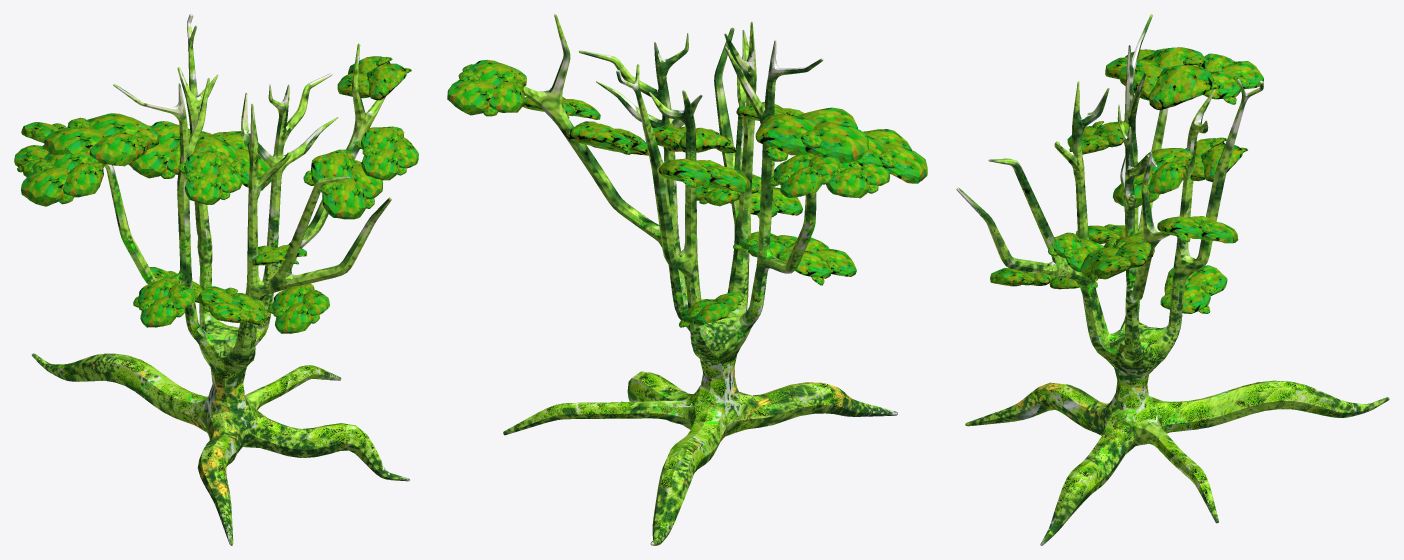
File: Arbol2.fbx
3 views of the same model, side by side, from view 1: azimuth 30°, elevation 25°; view 2: azimuth 150°, elevation 25°; view 3: azimuth 270°, elevation 25° (orthographic). The views are drawn at different scales.
Parts seen in each view (by area): view 1: Arbol; view 2: Arbol; view 3: Arbol.
Boxes of the visible parts, x1,y1,x2,y2 form: Arbol: (14,14,418,545); Arbol: (447,14,927,545); Arbol: (956,14,1389,545).
Bounding box in the file's own units: 4713 × 5069 × 4983.
